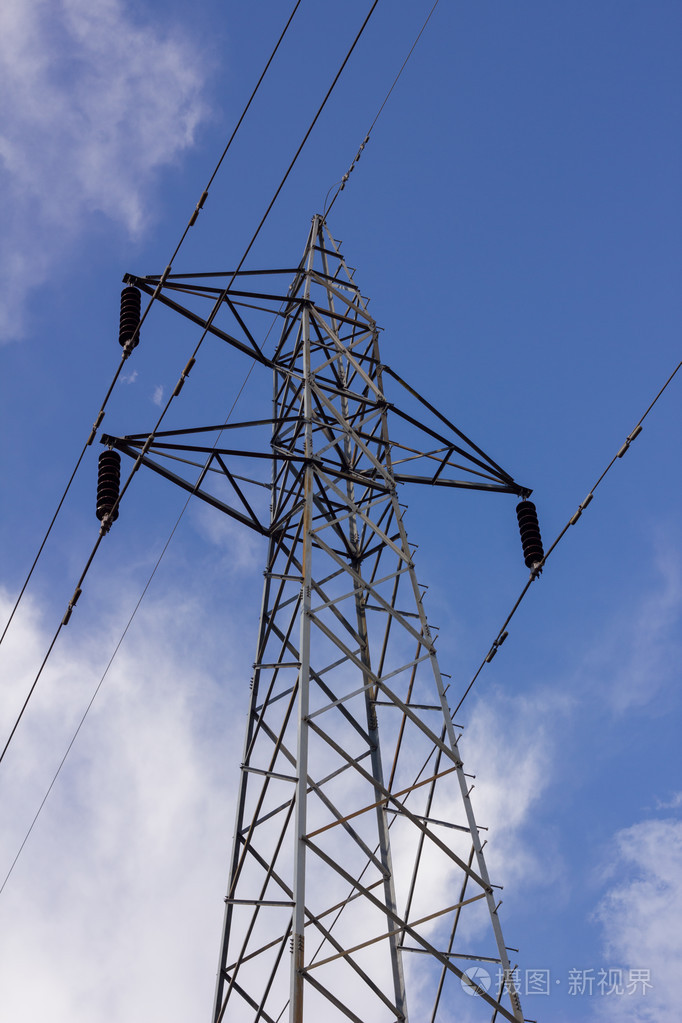insulator: (91, 451, 126, 523), (513, 499, 544, 564), (116, 287, 143, 347)
